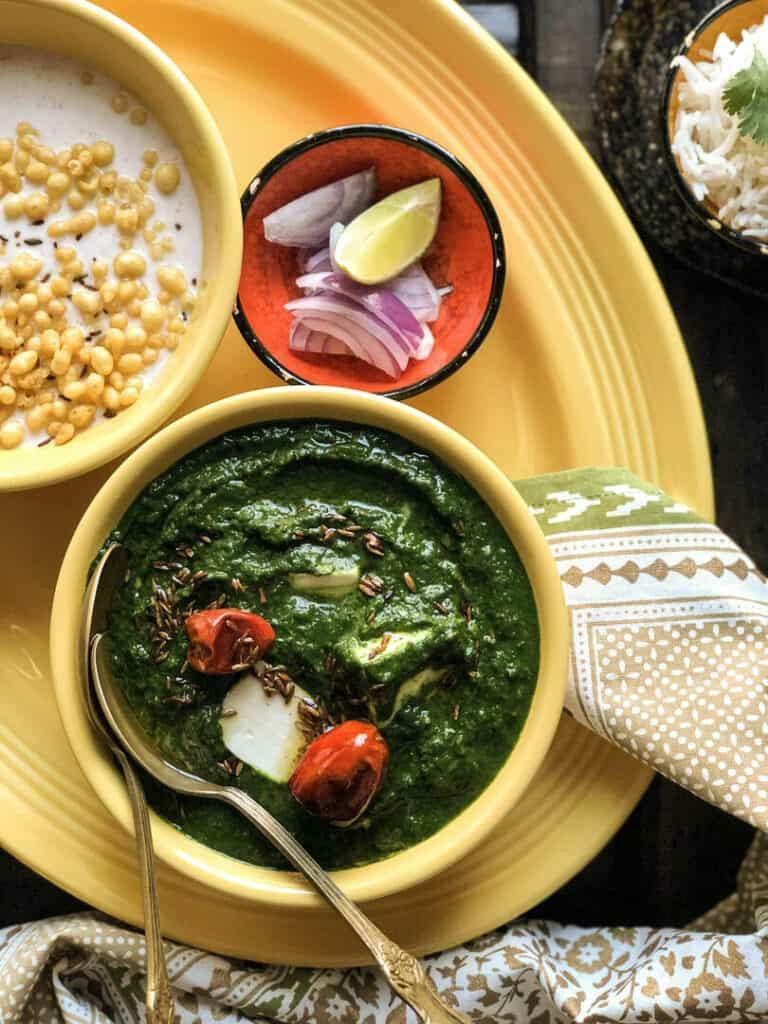PalakPaneer: (91, 424, 536, 873)
